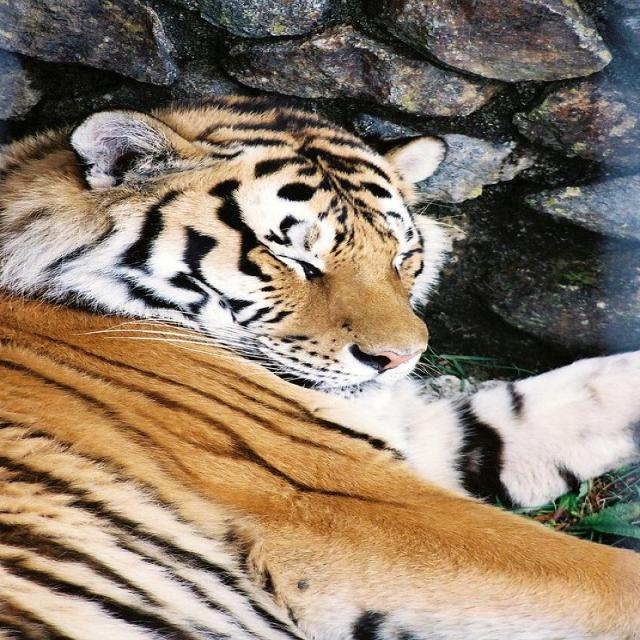Tiger: (0, 98, 639, 639)
